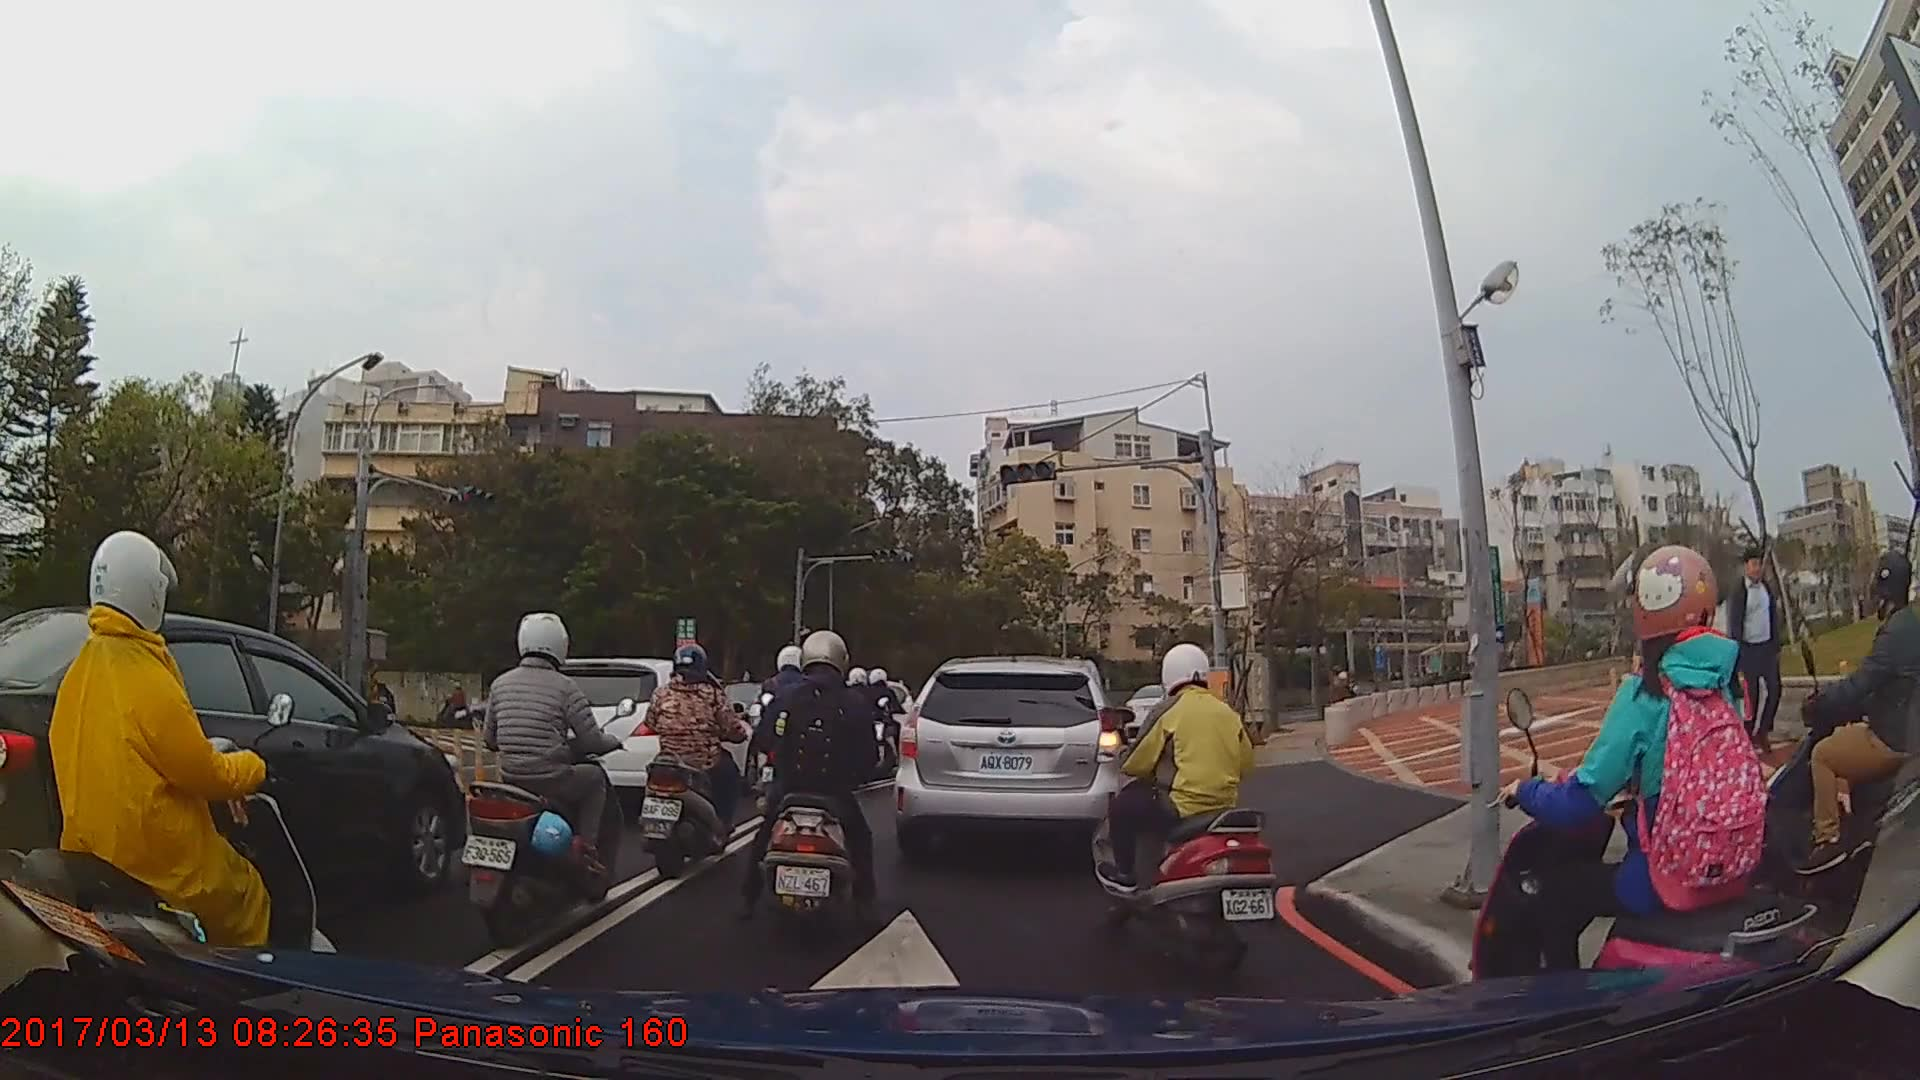rider: (1472, 541, 1813, 1053), (11, 532, 326, 1036), (1089, 642, 1280, 972), (1760, 549, 1916, 923), (457, 607, 619, 952), (748, 632, 887, 949), (636, 642, 754, 878)
vehicle: (0, 605, 466, 934), (890, 655, 1134, 854), (521, 656, 759, 817), (1122, 678, 1198, 739)
